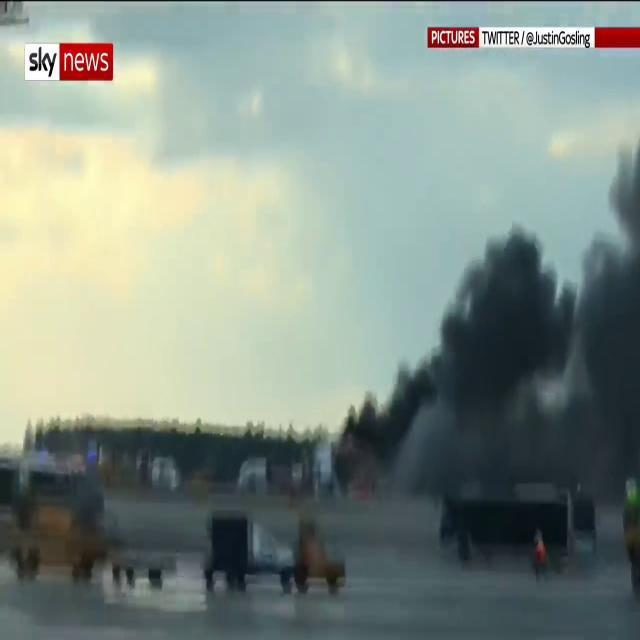Smoke: (346, 85, 640, 535)
